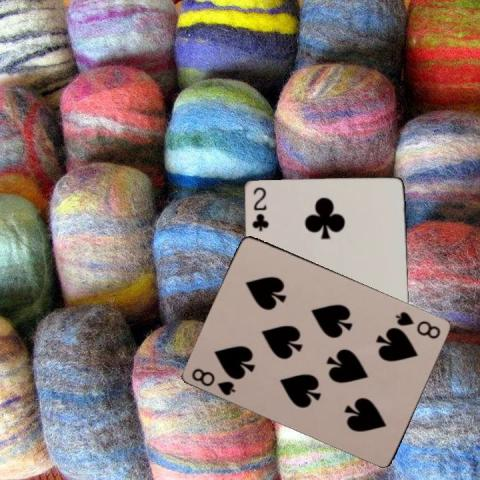2c: (250, 184, 270, 233)
8s: (392, 308, 442, 341), (189, 364, 238, 396)
